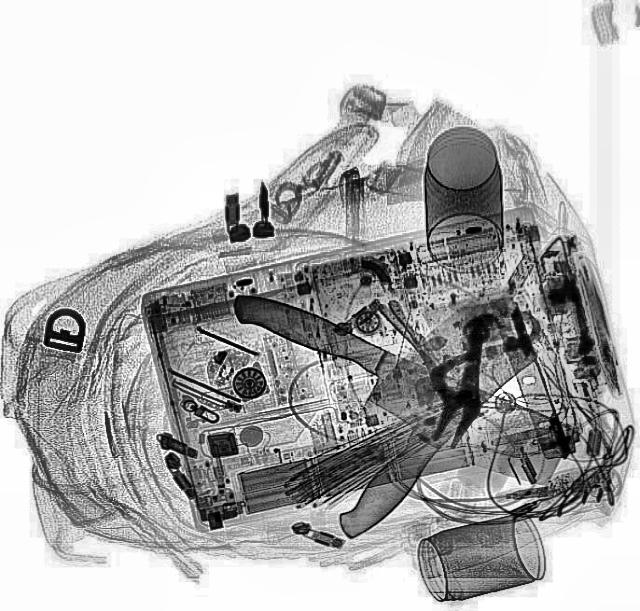Knife: (208, 280, 580, 492), (276, 293, 546, 543)
